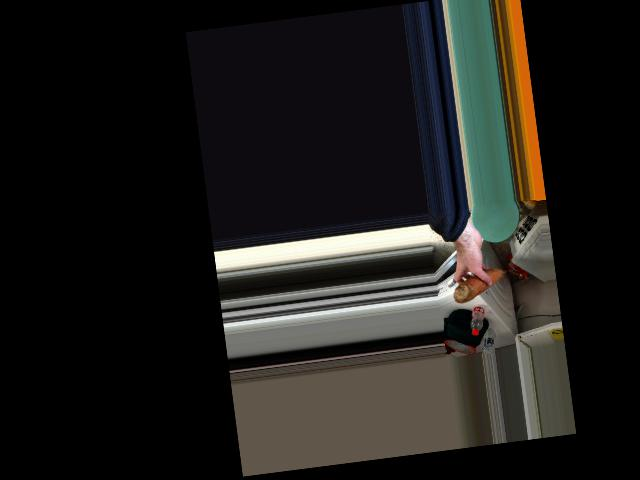sweet_potato: (453, 262, 505, 305)
